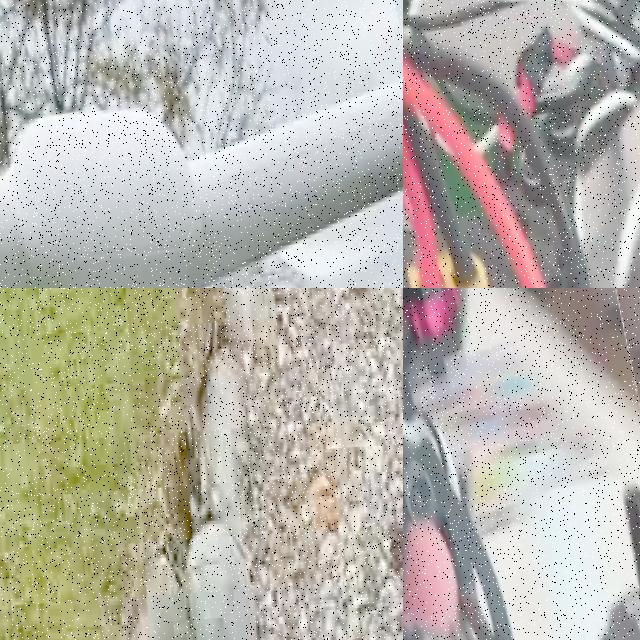drone: (0, 0, 403, 288), (403, 288, 640, 640), (403, 0, 640, 288)
